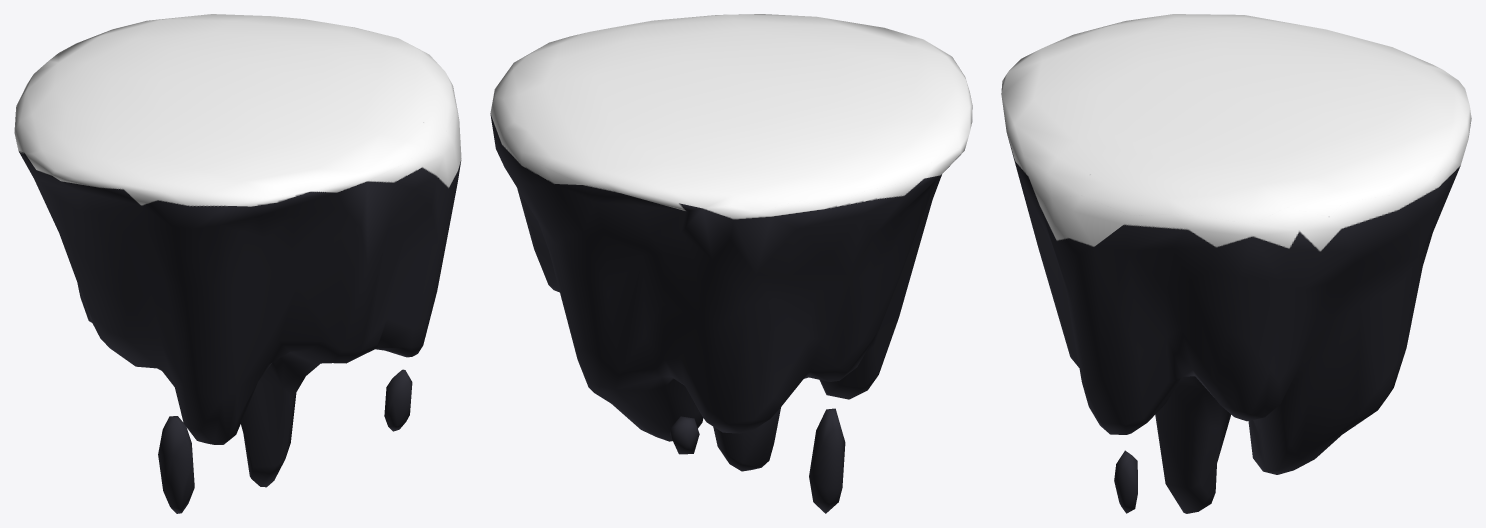
Rendered from island.dae.
3 views of the same model, side by side, from view 1: azimuth 30°, elevation 25°; view 2: azimuth 150°, elevation 25°; view 3: azimuth 270°, elevation 25° (orthographic). The views are drawn at different scales.
Visible parts, largest first — view 1: Icosphere; view 2: Icosphere; view 3: Icosphere.
Boxes of the visible parts, <box> form: Icosphere: <box>14,14,461,513</box>; Icosphere: <box>490,14,972,513</box>; Icosphere: <box>1001,14,1471,513</box>.
Bounding box in the file's own units: 6.22 × 5.8 × 5.85.
1 material, 1 textured.
